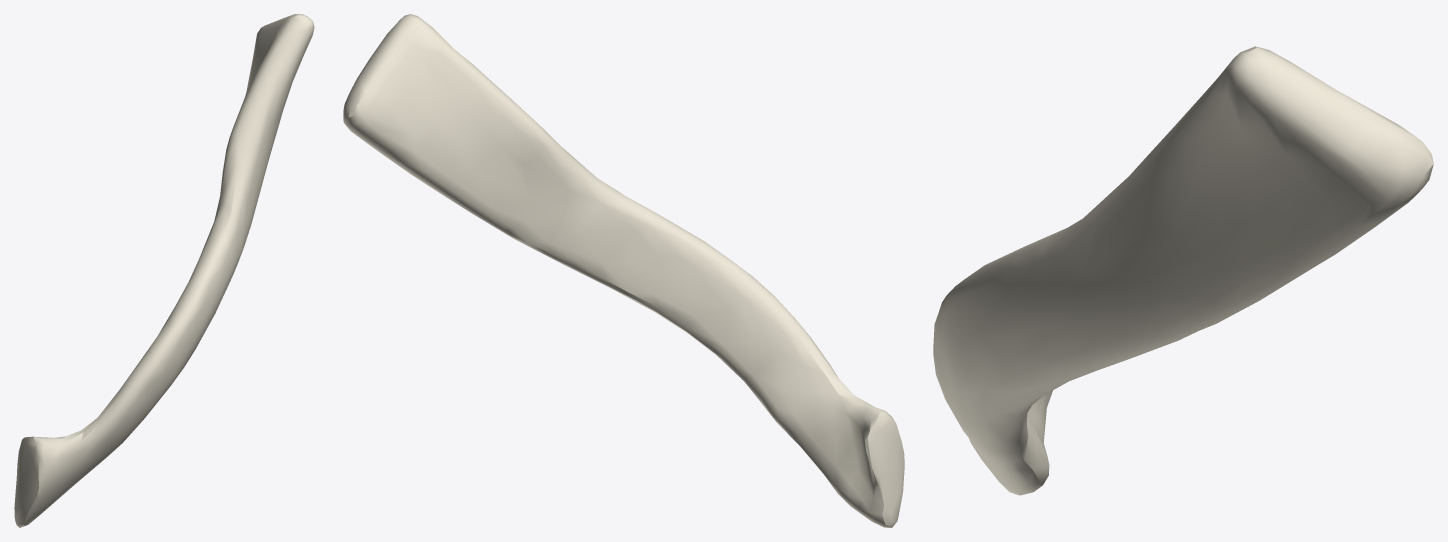
Rendered from fma40013_mm2020.glb.
3 renders of one model, left to right at view 1: azimuth 30°, elevation 25°; view 2: azimuth 150°, elevation 25°; view 3: azimuth 270°, elevation 25°, orthographic. The views are drawn at different scales.
Visible parts, largest first — view 1: FMA40013_MM2020; view 2: FMA40013_MM2020; view 3: FMA40013_MM2020.
Boxes of the visible parts, box(x1,y1,x2,y2) form: FMA40013_MM2020: box(14, 14, 314, 527); FMA40013_MM2020: box(343, 14, 904, 527); FMA40013_MM2020: box(933, 46, 1433, 495).
Bounding box in the file's own units: 0.023 × 0.0233 × 0.0137.
